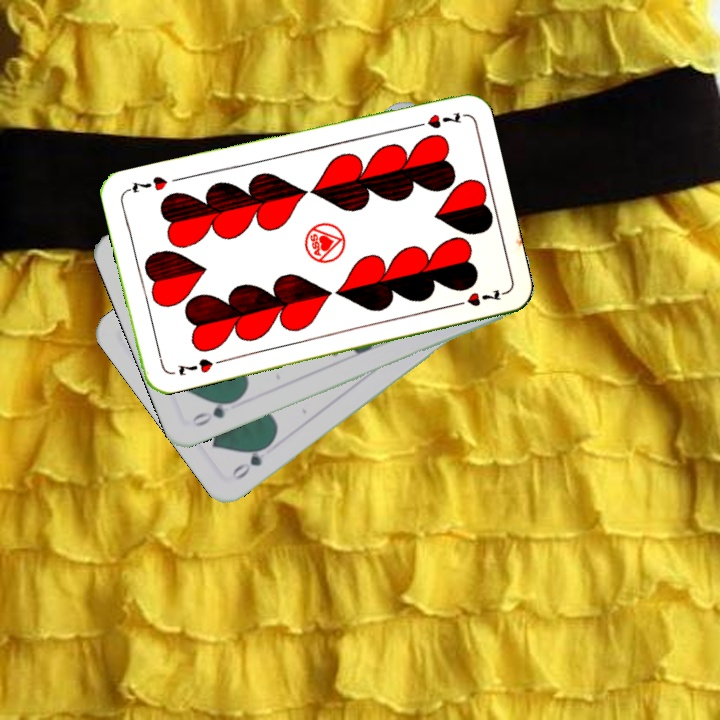GO: (228, 438, 275, 483), (188, 394, 242, 430)
H7: (407, 108, 464, 131), (174, 354, 216, 379)
